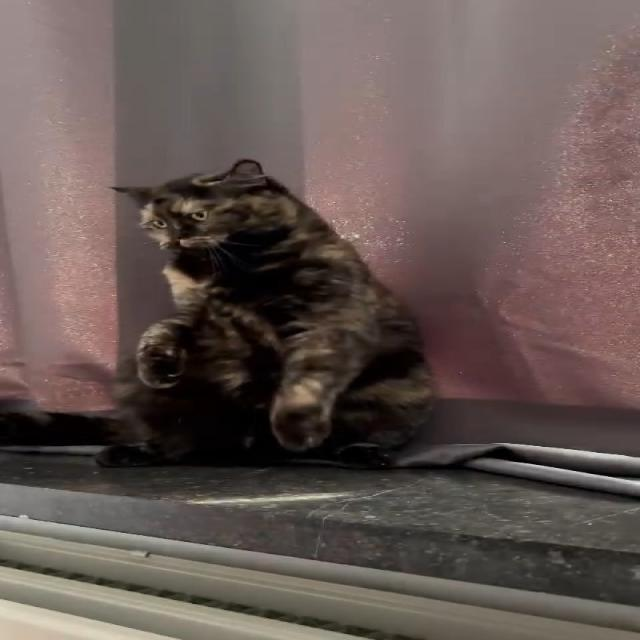authorized: (96, 158, 437, 468)
